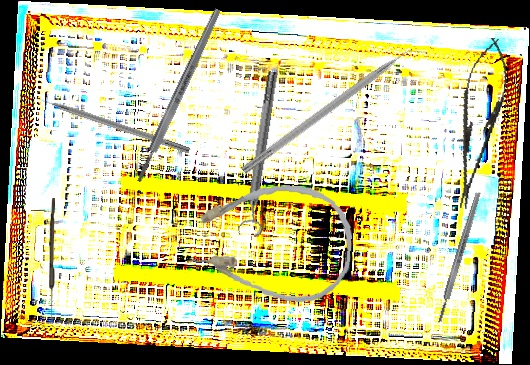Cannula: (184, 177, 356, 306)
Chopper: (240, 38, 430, 185)
Fixation Ring: (235, 69, 287, 239)
Hook Surgical: (27, 90, 191, 155)
Needle Holder: (441, 34, 516, 213)
Scalpel Handle: (133, 7, 224, 184), (435, 190, 483, 325)
Surgical Spoon: (49, 198, 55, 319)
